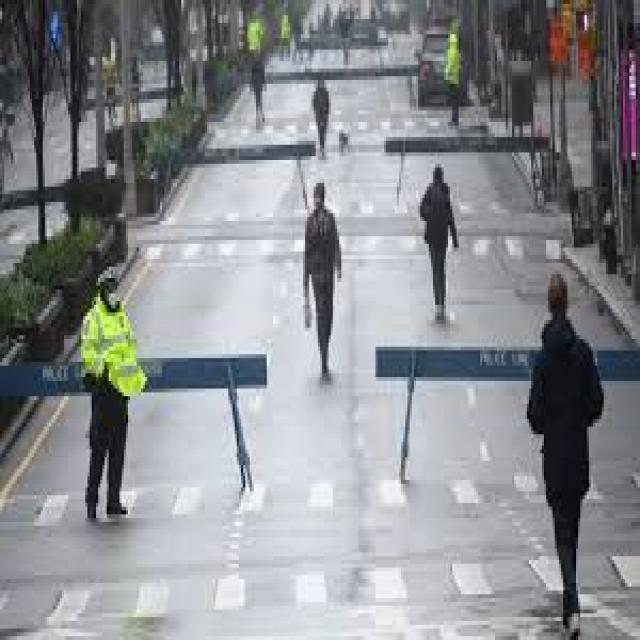Pedestrians: (525, 270, 612, 621), (85, 263, 141, 522), (301, 175, 341, 385), (418, 160, 459, 320)
